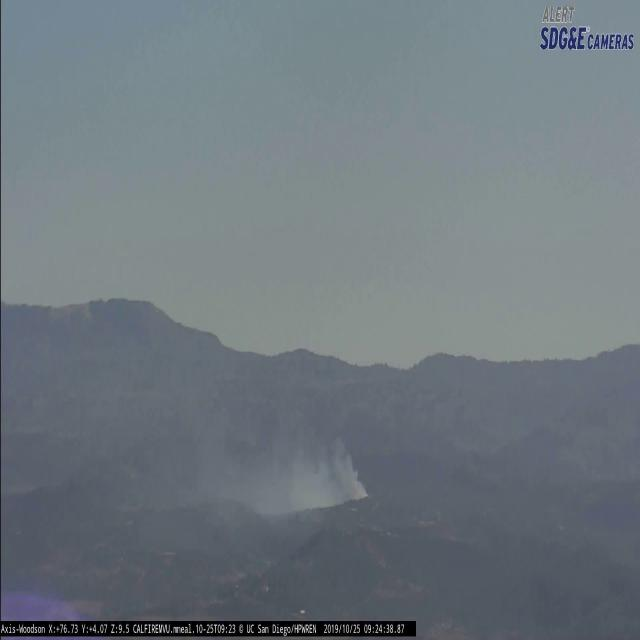smoke: (125, 414, 367, 519)
